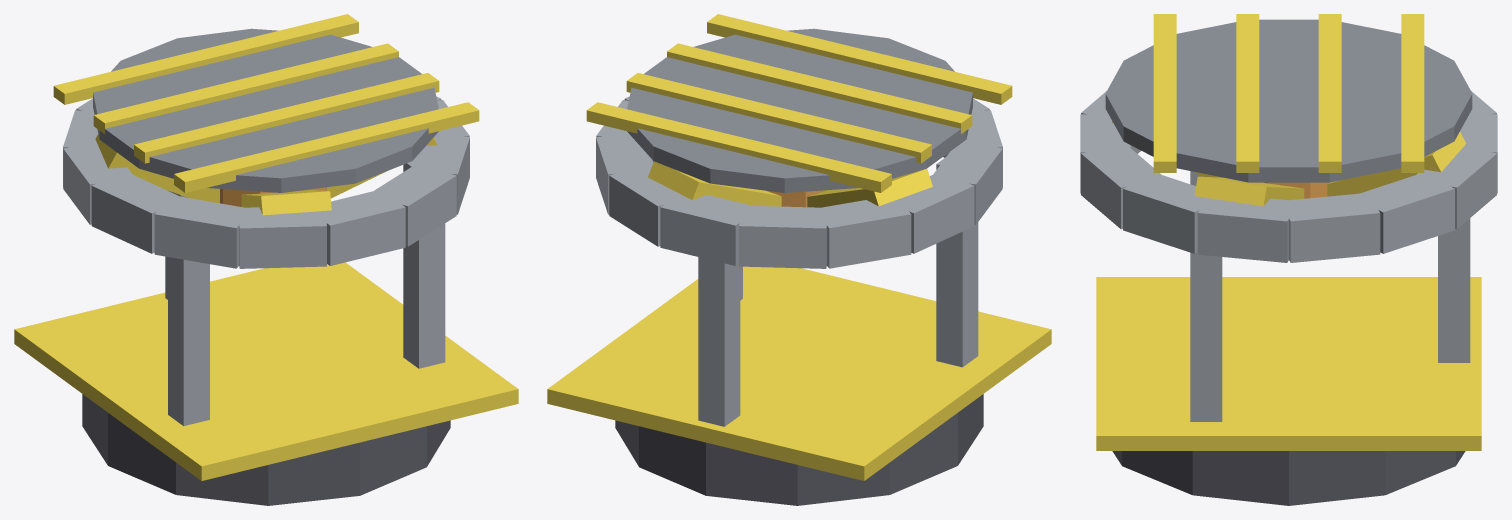
File: fan_vertical.glb
3 views of the same model, side by side, from view 1: azimuth 30°, elevation 25°; view 2: azimuth 150°, elevation 25°; view 3: azimuth 270°, elevation 25° (orthographic). The views are drawn at different scales.
Parts seen in each view (by area): view 1: fan_vertical; view 2: fan_vertical; view 3: fan_vertical.
Boxes of the visible parts, left/top/right/bottom form: fan_vertical: left=14, top=14, right=518, bottom=505; fan_vertical: left=547, top=14, right=1051, bottom=505; fan_vertical: left=1080, top=14, right=1497, bottom=505.
Bounding box in the file's own units: 1 × 0.895 × 1.
